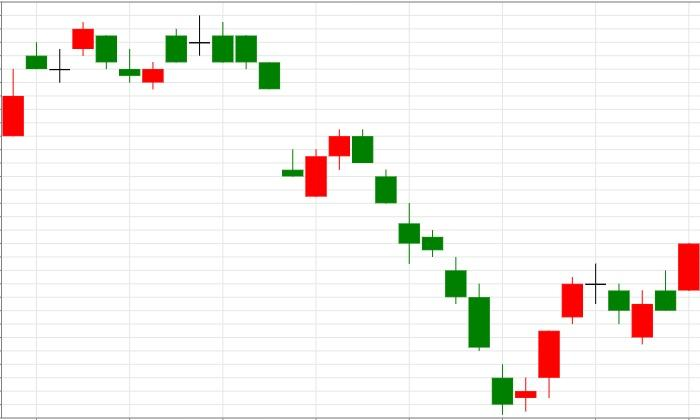bullish_engulfing_rise: (188, 15, 328, 197)
evening_star_fall: (492, 264, 630, 415)
three_black_crows_fall: (282, 129, 420, 264)
three_white_soldiers_rise: (352, 130, 583, 415)
